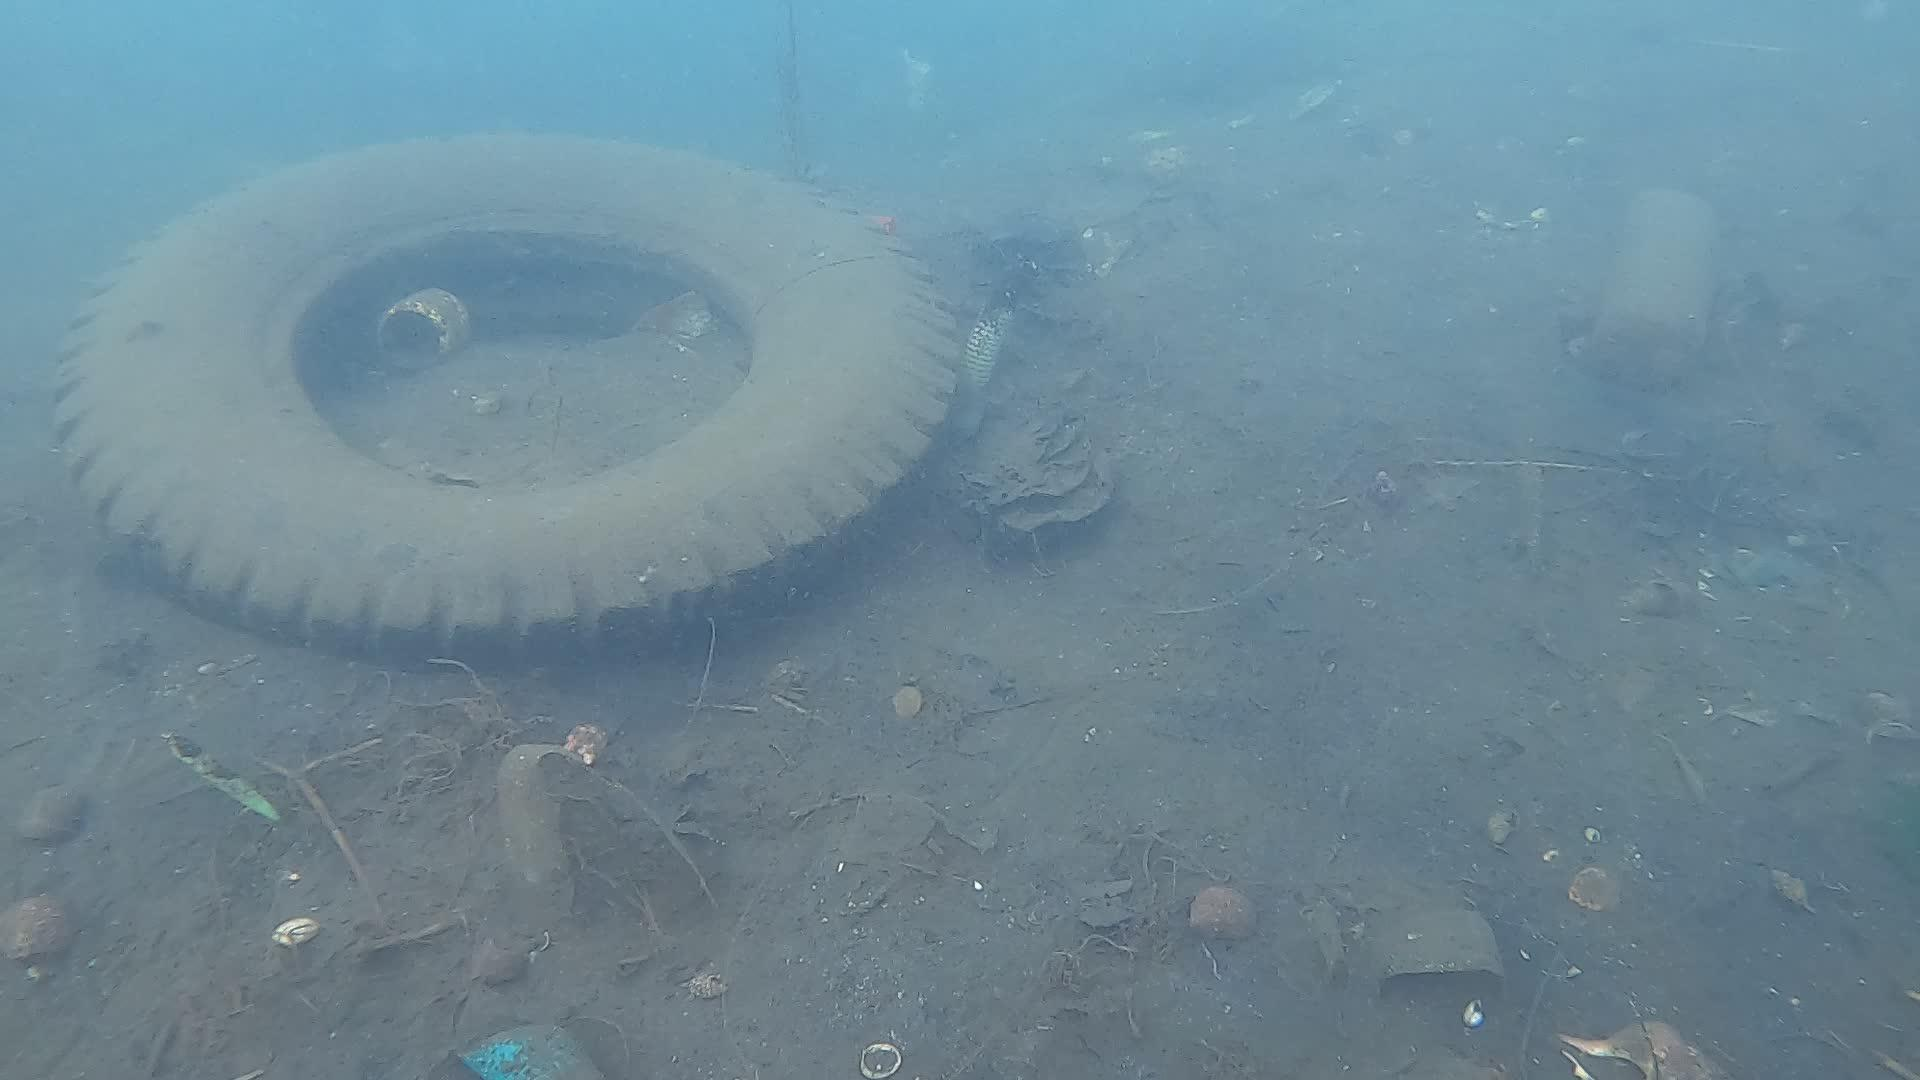tire: (44, 124, 967, 671)
